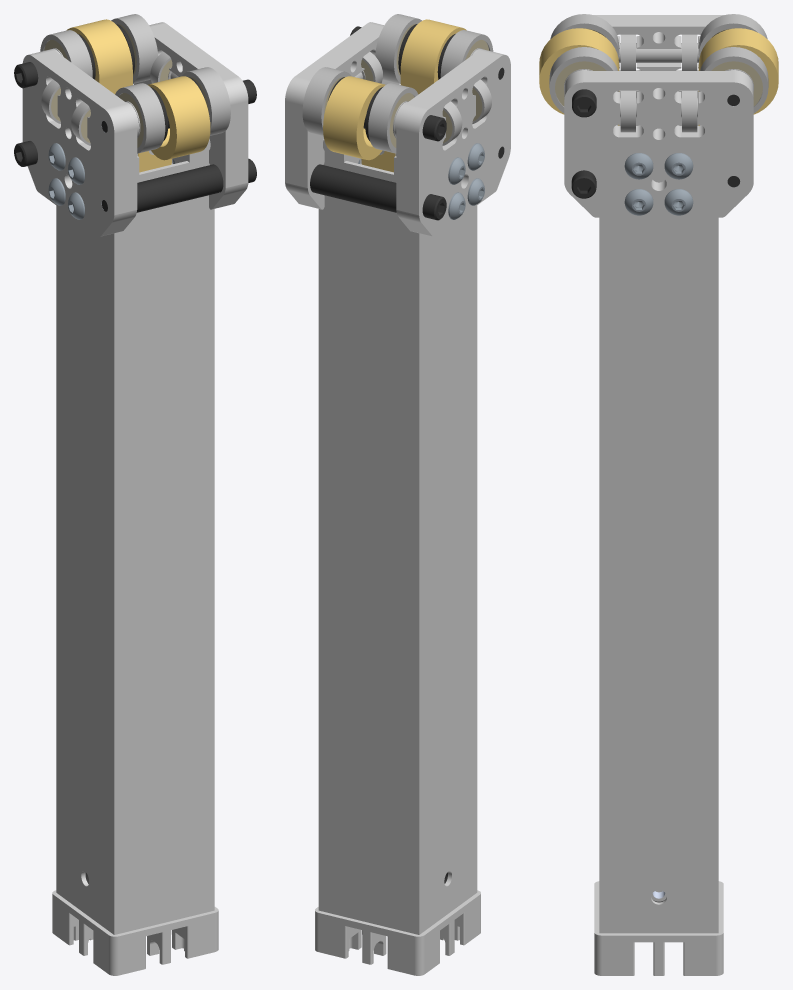
3 views of the same model, side by side, from view 1: azimuth 30°, elevation 25°; view 2: azimuth 150°, elevation 25°; view 3: azimuth 270°, elevation 25° (orthographic). The views are drawn at different scales.
Visible parts, largest first — view 1: Tube 1.5"x1.5"x11", WCP-0418-003 Rev2_7 (×2), WCP-0419-007 Rev1_2, Constant Force Spring (4 lbs, 40" Travel, 1/2" Width) (×2), 0.375" ID Bearing (0.875" OD, 0.281" WD, Shielded) (×4), #10 Aluminum Spacer (1-1/2" L, 3/8" OD), 0.25" ID Bearing (0.625" OD, 0.196" WD, Shielded) (×2); view 2: Tube 1.5"x1.5"x11", WCP-0418-003 Rev2_7 (×2), WCP-0419-007 Rev1_2, Constant Force Spring (4 lbs, 40" Travel, 1/2" Width) (×2), 0.375" ID Bearing (0.875" OD, 0.281" WD, Shielded) (×4), #10 Aluminum Spacer (1-1/2" L, 3/8" OD), 0.25" ID Bearing (0.625" OD, 0.196" WD, Shielded) (×3), #10-32 x 2" L SHCS (Steel, Black Oxide) (×2); view 3: Tube 1.5"x1.5"x11", WCP-0418-003 Rev2_7 (×2), 0.375" ID Bearing (0.875" OD, 0.281" WD, Shielded) (×4), WCP-0419-007 Rev1_2, Constant Force Spring (4 lbs, 40" Travel, 1/2" Width) (×2), 0.25" ID Bearing (0.625" OD, 0.196" WD, Shielded) (×4), Socket button head cap screw #10-32 x 0.25 (×2), Socket button head cap screw #10-32 x 0.375 (×2), #10-32 x 2" L SHCS (Steel, Black Oxide) (×2), WCP-0418-004 Rev2_7.
Part boxes in pixels (x1,y1,x2,y2): Tube 1.5"x1.5"x11": [56, 139, 214, 934]; WCP-0418-003 Rev2_7 (×2): [22, 22, 248, 236]; WCP-0419-007 Rev1_2: [52, 890, 218, 975]; Constant Force Spring (4 lbs, 40" Travel, 1/2" Width) (×2): [66, 19, 210, 172]; 0.375" ID Bearing (0.875" OD, 0.281" WD, Shielded) (×4): [40, 14, 230, 153]; #10 Aluminum Spacer (1-1/2" L, 3/8" OD): [136, 164, 223, 212]; 0.25" ID Bearing (0.625" OD, 0.196" WD, Shielded) (×2): [41, 79, 90, 145]; Tube 1.5"x1.5"x11": [318, 139, 477, 934]; WCP-0418-003 Rev2_7 (×2): [285, 22, 510, 236]; WCP-0419-007 Rev1_2: [315, 890, 480, 975]; Constant Force Spring (4 lbs, 40" Travel, 1/2" Width) (×2): [323, 19, 466, 172]; 0.375" ID Bearing (0.875" OD, 0.281" WD, Shielded) (×4): [302, 14, 493, 153]; #10 Aluminum Spacer (1-1/2" L, 3/8" OD): [310, 164, 396, 212]; 0.25" ID Bearing (0.625" OD, 0.196" WD, Shielded) (×3): [361, 52, 491, 145]; #10-32 x 2" L SHCS (Steel, Black Oxide) (×2): [422, 115, 446, 220]; Tube 1.5"x1.5"x11": [599, 90, 718, 933]; WCP-0418-003 Rev2_7 (×2): [564, 15, 753, 217]; 0.375" ID Bearing (0.875" OD, 0.281" WD, Shielded) (×4): [549, 14, 768, 113]; WCP-0419-007 Rev1_2: [594, 881, 723, 975]; Constant Force Spring (4 lbs, 40" Travel, 1/2" Width) (×2): [539, 28, 778, 125]; 0.25" ID Bearing (0.625" OD, 0.196" WD, Shielded) (×4): [620, 34, 697, 132]; Socket button head cap screw #10-32 x 0.25 (×2): [624, 189, 693, 215]; Socket button head cap screw #10-32 x 0.375 (×2): [624, 153, 693, 179]; #10-32 x 2" L SHCS (Steel, Black Oxide) (×2): [571, 89, 596, 198]; WCP-0418-004 Rev2_7: [618, 43, 699, 62].
Size of the model in its own units: 0.0605 by 0.3214 by 0.0764.
